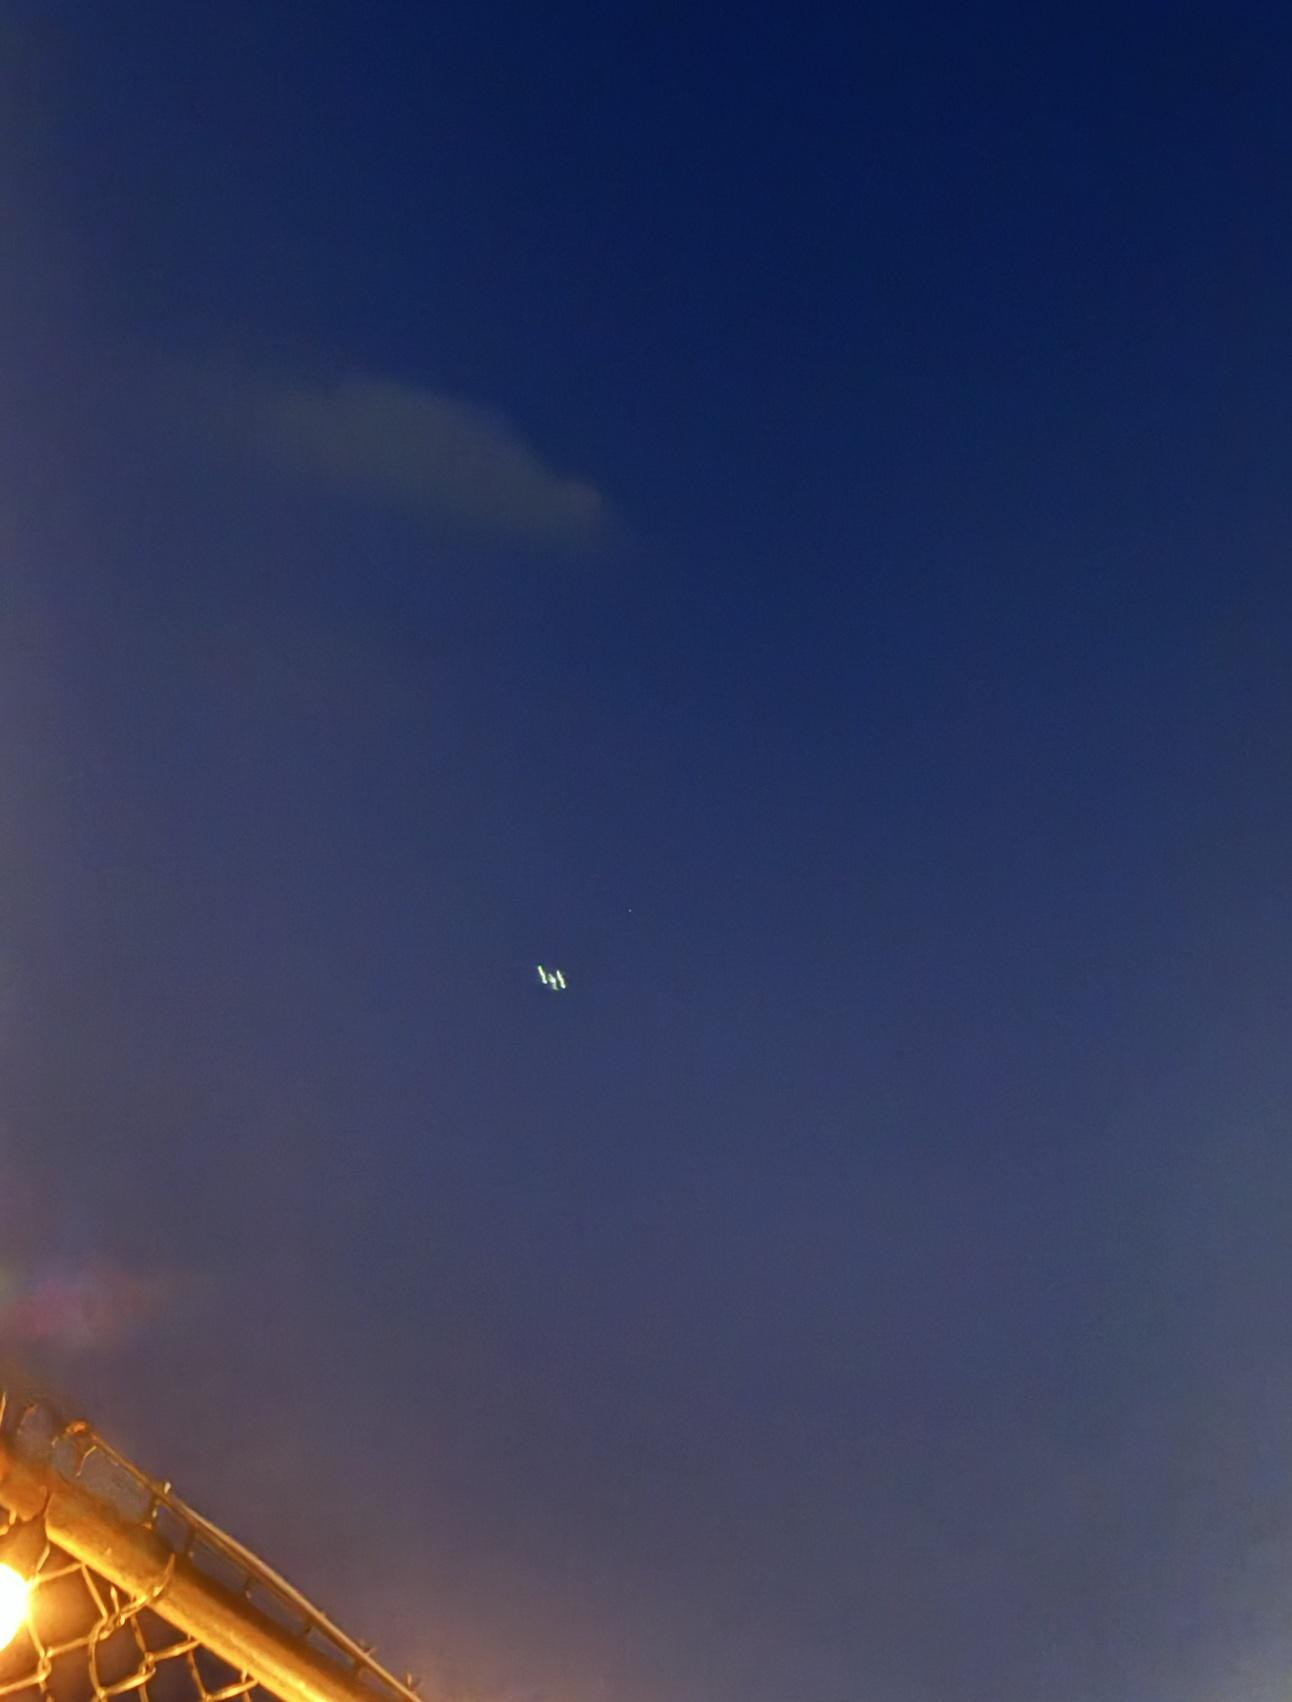Plane: (498, 949, 593, 1007)
